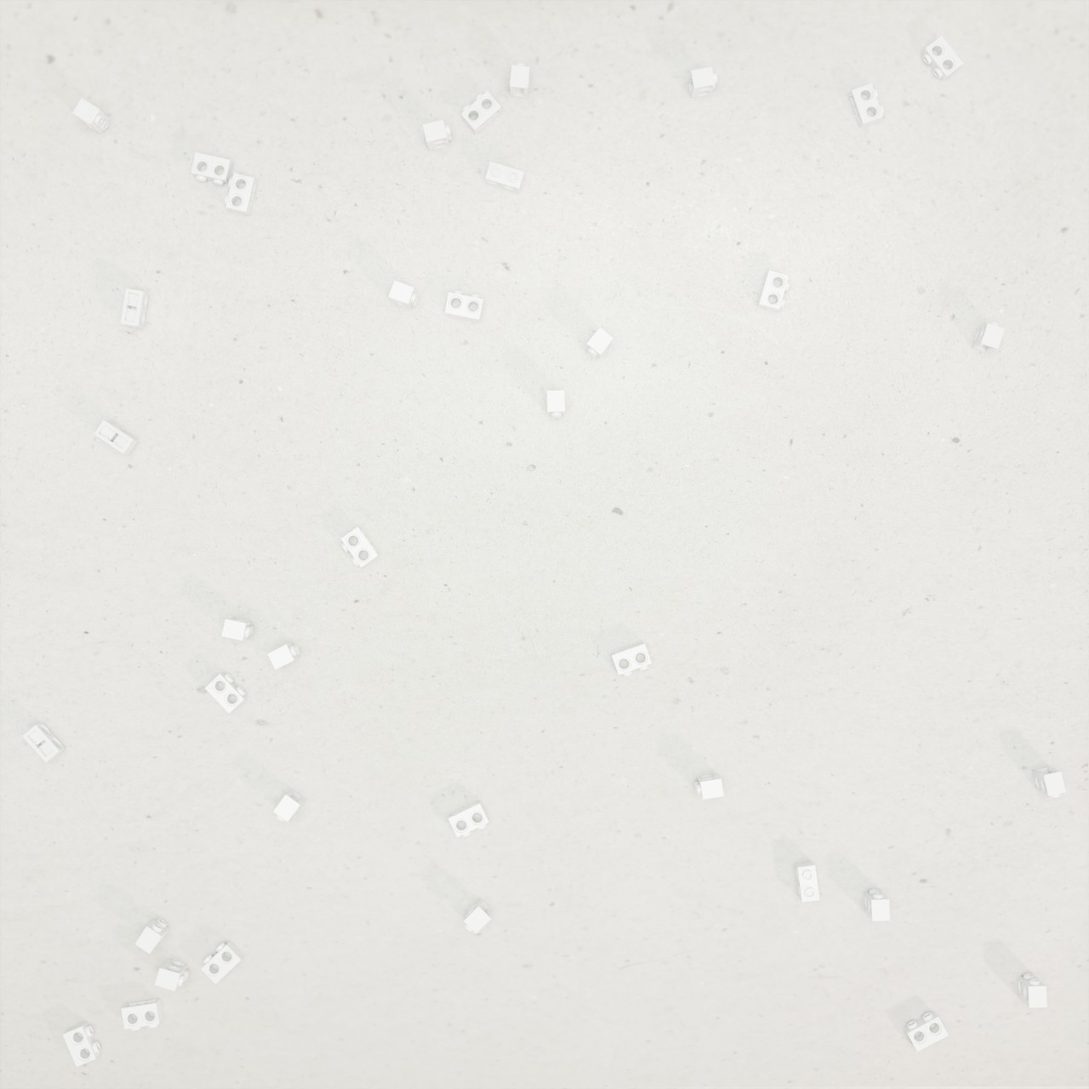lego: (921, 35, 964, 82), (201, 940, 244, 984), (903, 1011, 949, 1052), (204, 672, 247, 714), (461, 91, 502, 135), (22, 722, 66, 763), (62, 1021, 101, 1067), (848, 83, 884, 128), (341, 527, 380, 568), (94, 420, 139, 455), (448, 800, 489, 838), (191, 152, 234, 186), (224, 173, 258, 216), (611, 642, 652, 677), (757, 270, 791, 312), (121, 998, 164, 1031), (72, 98, 110, 134), (135, 918, 170, 954), (445, 290, 484, 322), (485, 161, 524, 193), (120, 288, 149, 329), (154, 958, 189, 991), (273, 789, 306, 822), (1032, 766, 1066, 798), (794, 861, 820, 902), (971, 322, 1005, 353), (1017, 973, 1047, 1008), (463, 898, 492, 934), (422, 119, 452, 151), (388, 280, 419, 310), (267, 642, 300, 670), (688, 67, 717, 98), (586, 327, 614, 359), (864, 889, 890, 921), (694, 773, 724, 800), (221, 617, 254, 641), (510, 63, 530, 98), (547, 390, 565, 418)
